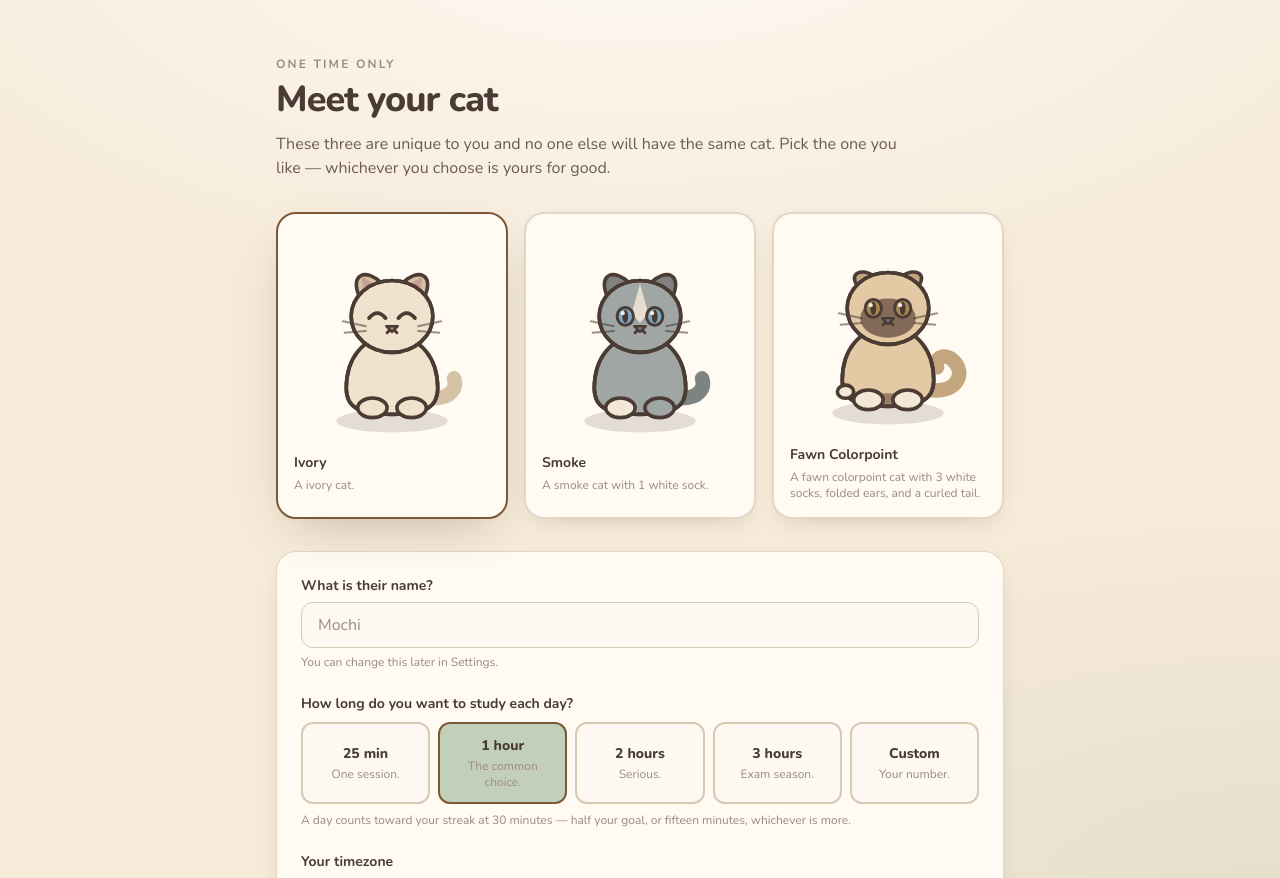
it: the daily goal picker › reveals the field when Custom is clicked, even though the default is a preset
Step 1. Click the button "Custom Your number." → (914, 762), box [850,722,979,804]
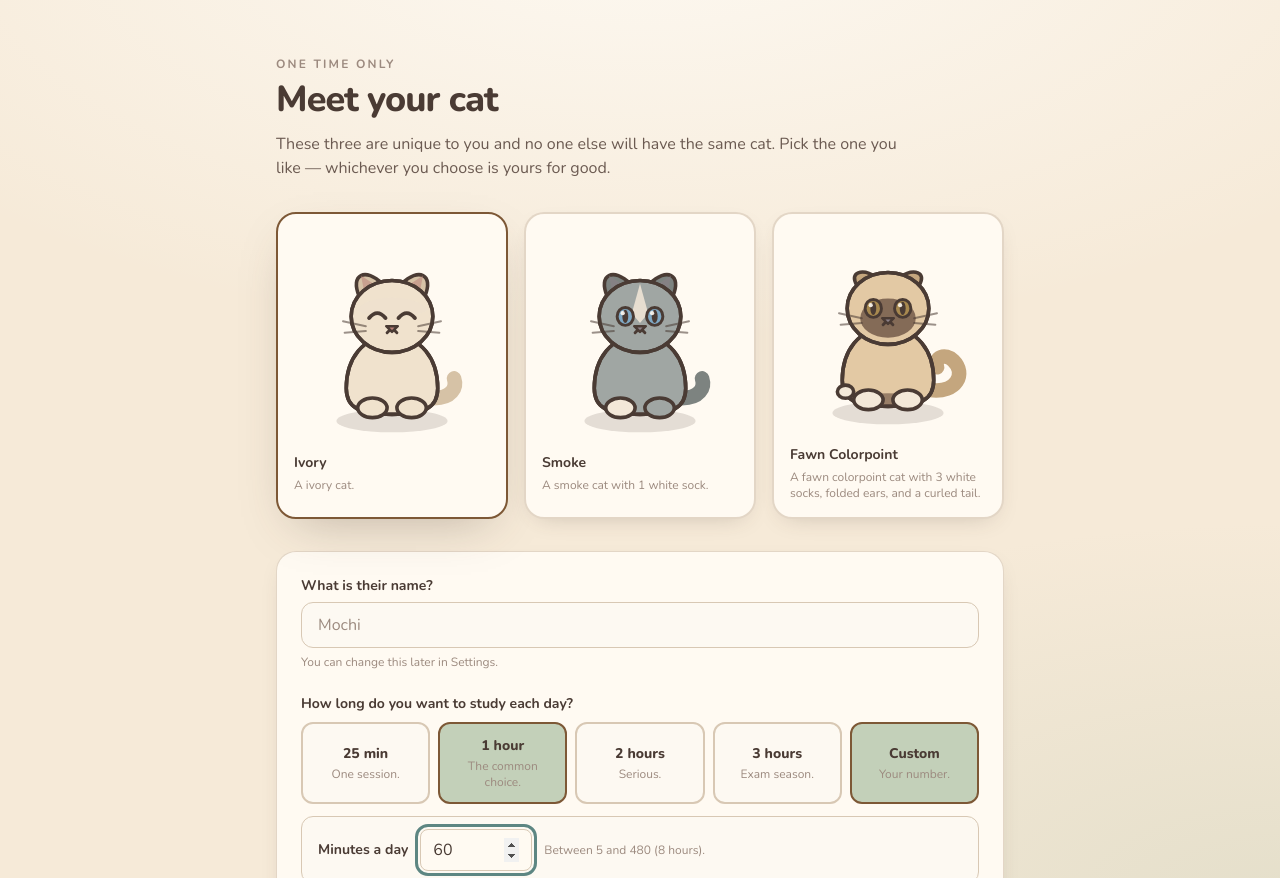
Result: the number field labelled "Minutes a day" is shown at [420,828,532,870]
